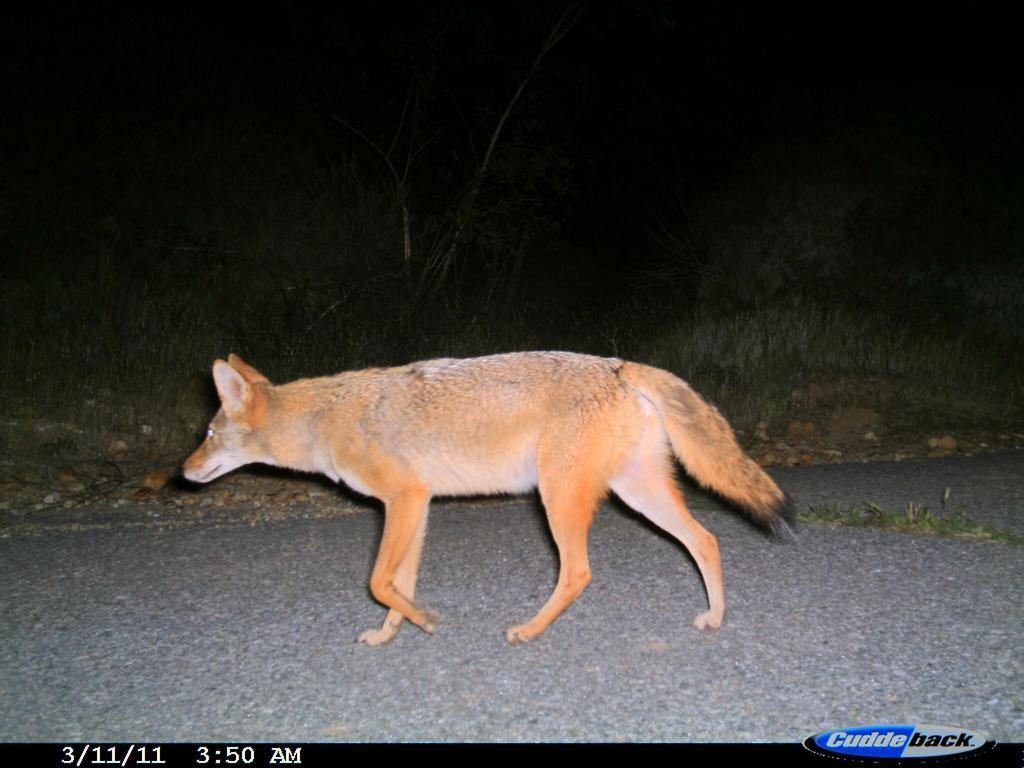coyote: (175, 345, 792, 652)
